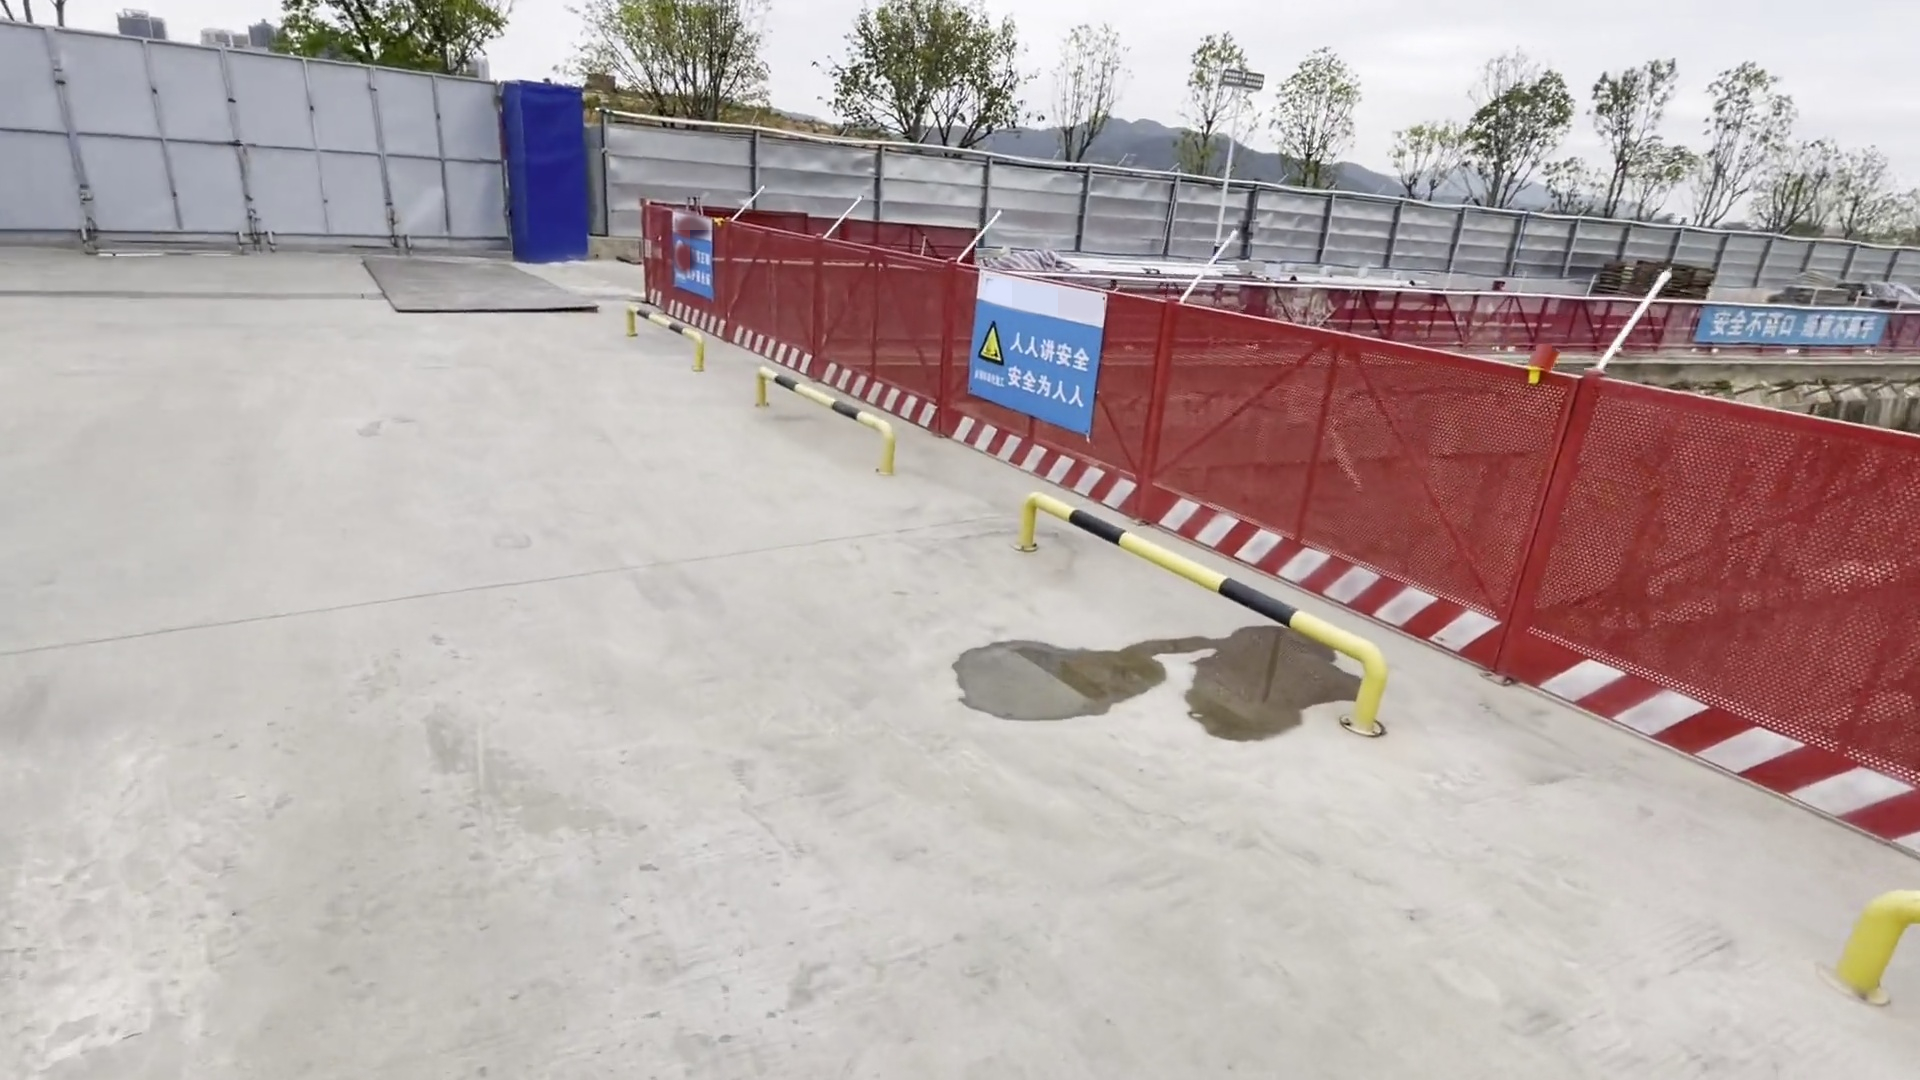fence: (640, 214, 1920, 864)
slogan: (971, 316, 1091, 410), (675, 241, 709, 291)
